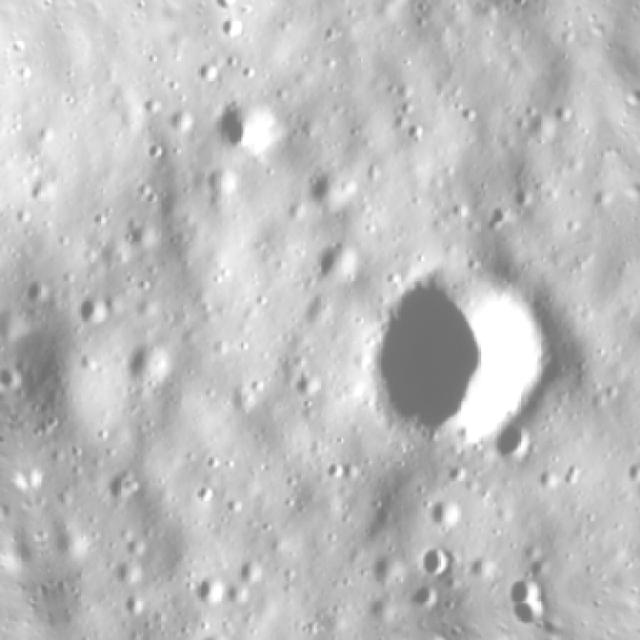crater: (352, 250, 574, 448), (211, 88, 274, 166), (118, 339, 176, 398), (297, 162, 366, 210), (301, 233, 361, 284), (483, 417, 549, 461), (187, 570, 235, 610), (500, 570, 552, 605), (426, 489, 466, 526), (414, 538, 451, 577), (76, 293, 115, 329), (187, 479, 222, 510), (184, 631, 250, 640), (23, 459, 39, 496)
